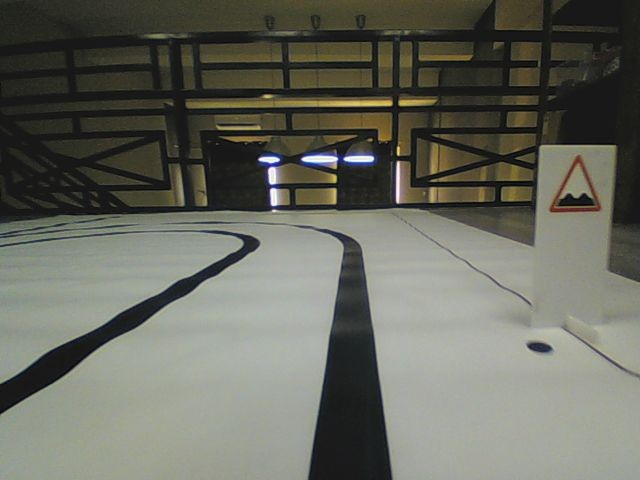Nerov: (547, 153, 603, 214)
